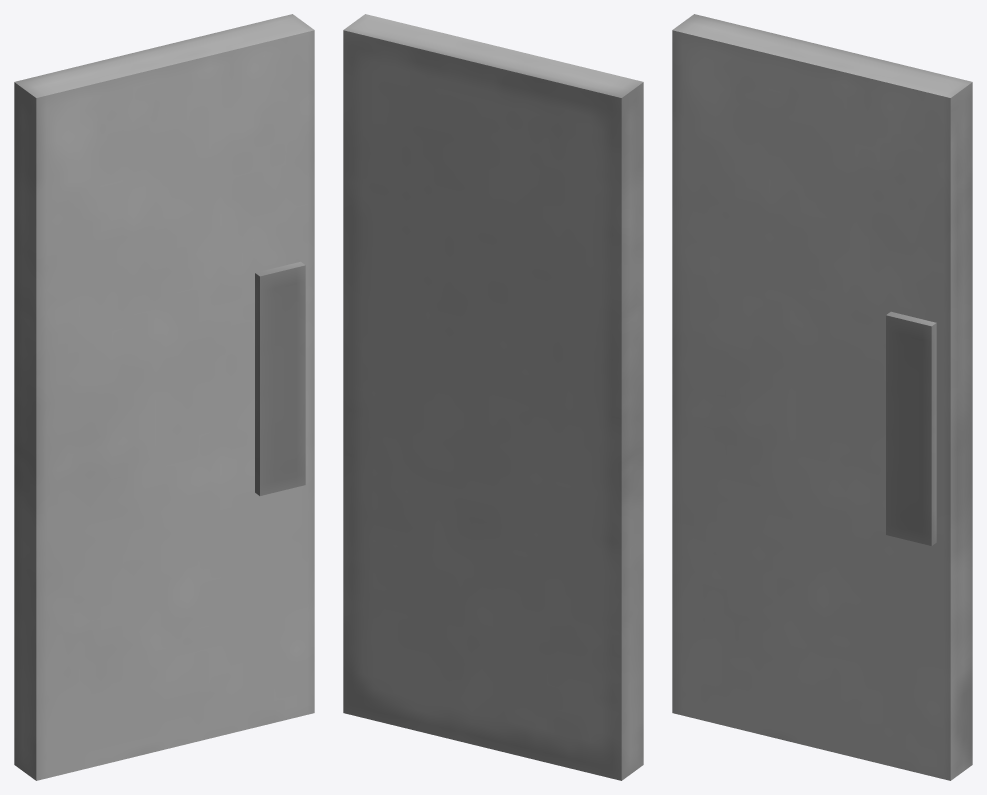
Rendered from SM_Cabinet.fbx.
3 views of the same model, side by side, from view 1: azimuth 30°, elevation 25°; view 2: azimuth 150°, elevation 25°; view 3: azimuth 330°, elevation 25° (orthographic).
Visible parts, largest first — view 1: Kitchen; view 2: Kitchen; view 3: Kitchen.
Boxes of the visible parts, x1=… form: Kitchen: x1=14, y1=14, x2=314, y2=780; Kitchen: x1=343, y1=14, x2=643, y2=780; Kitchen: x1=672, y1=14, x2=972, y2=780.
Bounding box in the file's own units: 0.5242 × 1.23 × 0.0882.
Materials: 1 (1 with a texture image).
